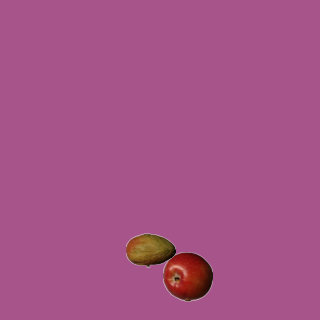Apple Braeburn: (162, 251, 212, 301)
Papaya: (125, 225, 175, 275)
